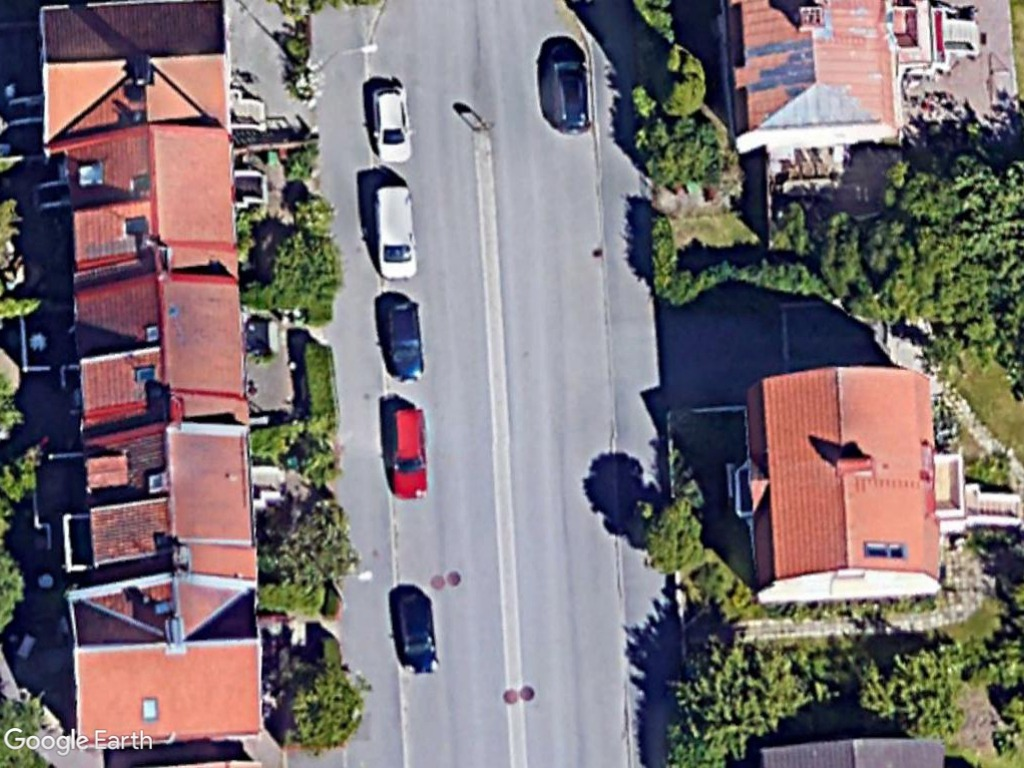car: (540, 35, 599, 138), (380, 401, 437, 505), (390, 584, 446, 682), (362, 78, 420, 170), (378, 290, 430, 385)
van: (365, 179, 424, 289)
